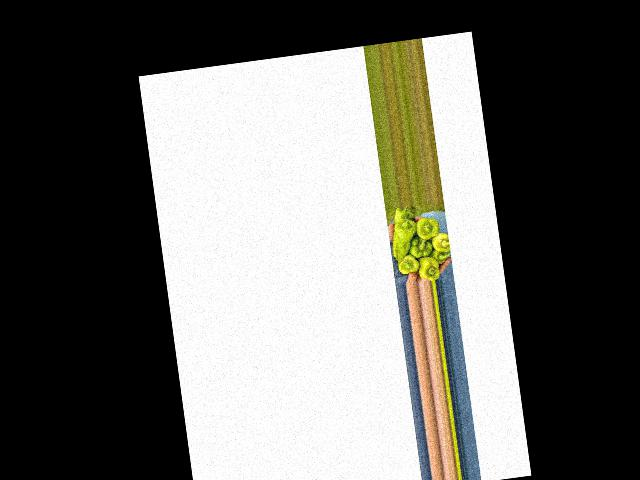bell_pepper: (418, 254, 443, 281)
